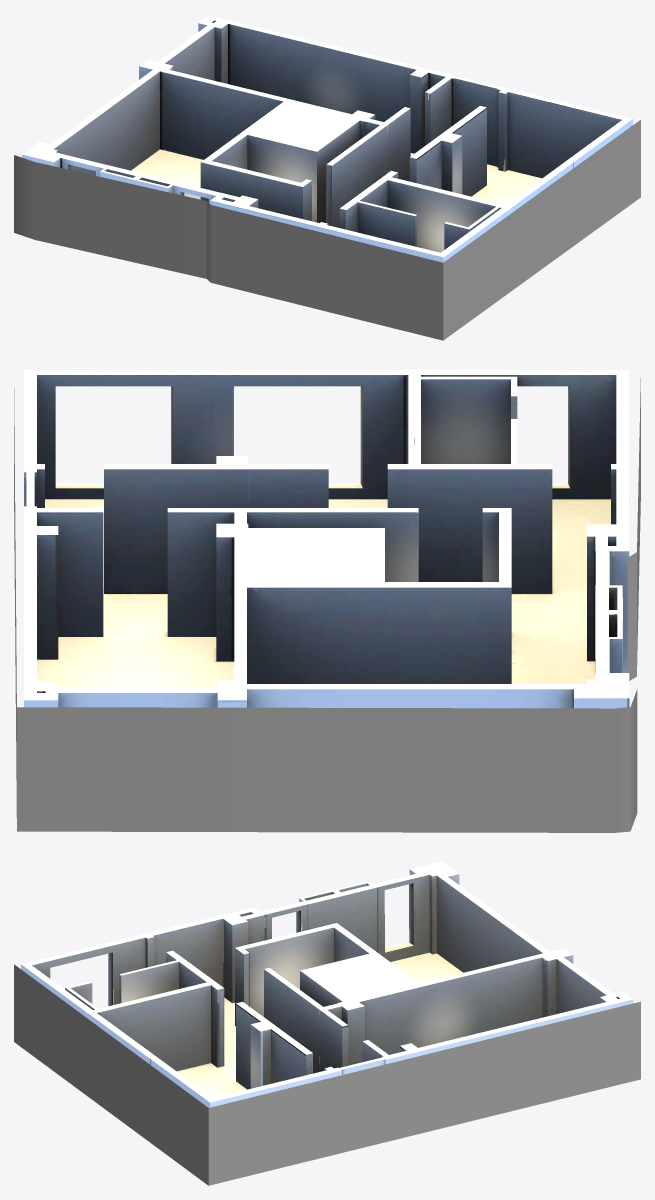
3 views of the same model, one above another, from view 1: azimuth 30°, elevation 25°; view 2: azimuth 150°, elevation 25°; view 3: azimuth 270°, elevation 25° (orthographic). The views are drawn at different scales.
Parts seen in each view (by area): view 1: hd_5floor_wlm_2, hd_5_zoulang_1, hd_5floor_room04_6, hd_5floor_room03_5, hd_5floor_room01_3, hd_5floor_room02_4; view 2: hd_5_zoulang_1, hd_5floor_wlm_2, hd_5floor_room04_6, hd_5floor_room03_5, hd_5floor_room01_3, hd_5floor_room02_4; view 3: hd_5floor_wlm_2, hd_5_zoulang_1, hd_5floor_room04_6, hd_5floor_room03_5, hd_5floor_room01_3, hd_5floor_room02_4.
Boxes of the visible parts, x1,y1,x2,y2 form: hd_5floor_wlm_2: (14,119,640,340); hd_5_zoulang_1: (22,69,510,262); hd_5floor_room04_6: (139,15,457,181); hd_5floor_room03_5: (386,86,633,213); hd_5floor_room01_3: (206,101,384,225); hd_5floor_room02_4: (355,178,499,252); hd_5_zoulang_1: (26,369,629,708); hd_5floor_wlm_2: (14,378,640,832); hd_5floor_room04_6: (24,506,248,707); hd_5floor_room03_5: (24,369,414,590); hd_5floor_room01_3: (240,510,505,584); hd_5floor_room02_4: (414,378,514,466); hd_5floor_wlm_2: (14,964,640,1185); hd_5_zoulang_1: (21,861,549,1077); hd_5floor_room04_6: (319,948,633,1071); hd_5floor_room03_5: (88,983,341,1107); hd_5floor_room01_3: (240,925,417,1016); hd_5floor_room02_4: (68,960,211,1010).
Bounding box in the file's own units: 2.19 × 0.3296 × 2.35.
Materials: 7 (5 with a texture image).
